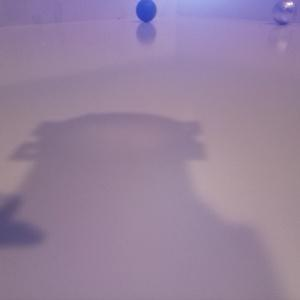dead_ball: (272, 1, 297, 24), (135, 1, 158, 22)
